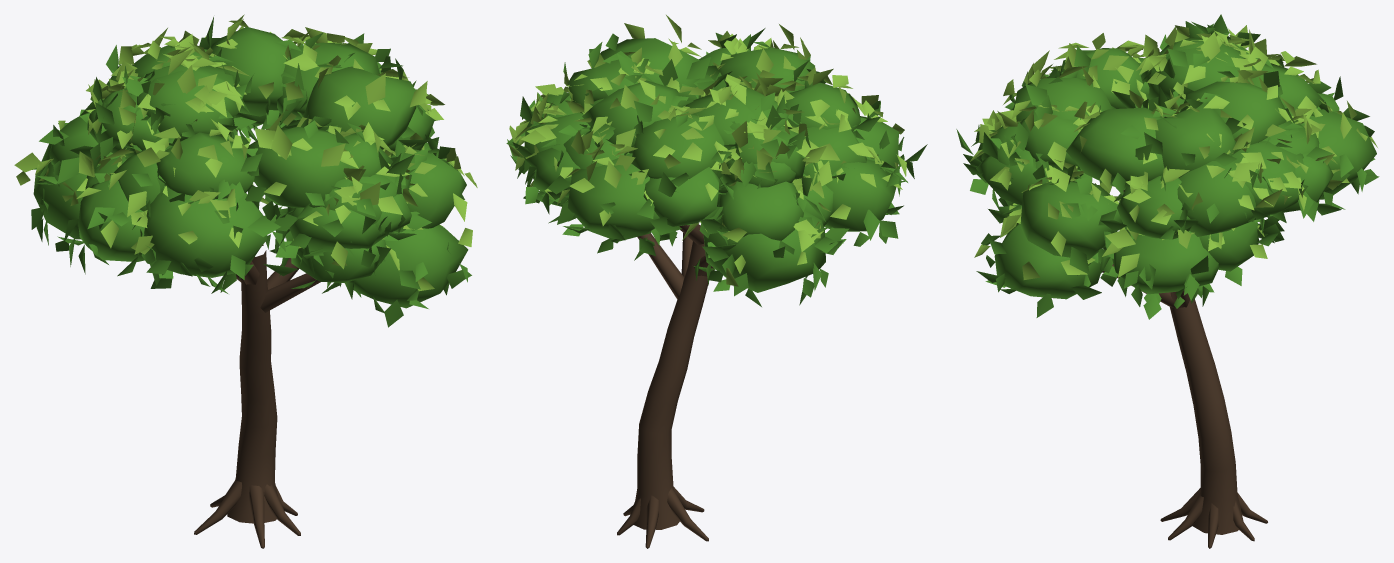
Rendered from PLANT_Tree_Young_MD.glb.
3 renders of one model, left to right at view 1: azimuth 30°, elevation 25°; view 2: azimuth 150°, elevation 25°; view 3: azimuth 270°, elevation 25°, orthographic. The views are drawn at different scales.
Visible parts, largest first — view 1: PLANT_Tree_Young_MD; view 2: PLANT_Tree_Young_MD; view 3: PLANT_Tree_Young_MD.
Boxes of the visible parts, x1,y1,x2,y2 form: PLANT_Tree_Young_MD: (14, 14, 477, 548); PLANT_Tree_Young_MD: (506, 15, 927, 548); PLANT_Tree_Young_MD: (956, 14, 1379, 548).
Bounding box in the file's own units: 4.65 × 5.5 × 4.5.
